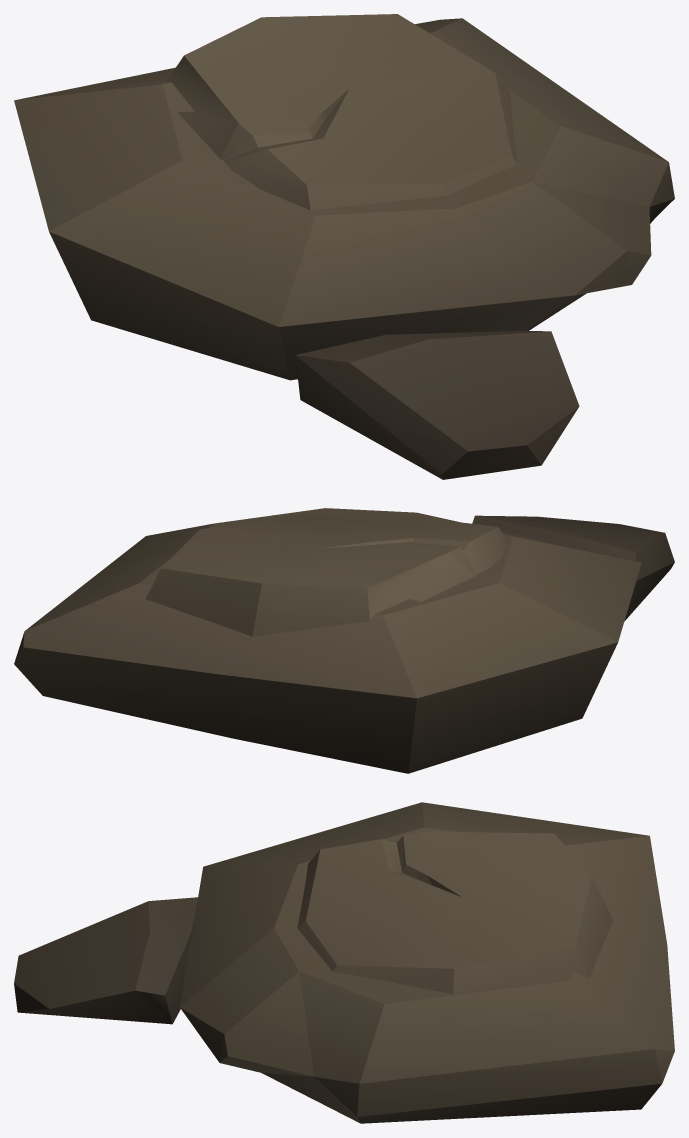
The model's file is LandMass_A.fbx.
3 renders of one model, top to bottom at view 1: azimuth 30°, elevation 25°; view 2: azimuth 150°, elevation 25°; view 3: azimuth 270°, elevation 25°, orthographic. The views are drawn at different scales.
Parts seen in each view (by area): view 1: LandMass_A; view 2: LandMass_A; view 3: LandMass_A.
Part boxes in pixels (x1,y1,x2,y2): LandMass_A: [14, 14, 674, 479]; LandMass_A: [14, 508, 674, 773]; LandMass_A: [14, 802, 674, 1123].
Bounding box in the file's own units: 4205 × 4809 × 1296.
1 material, 1 textured.
